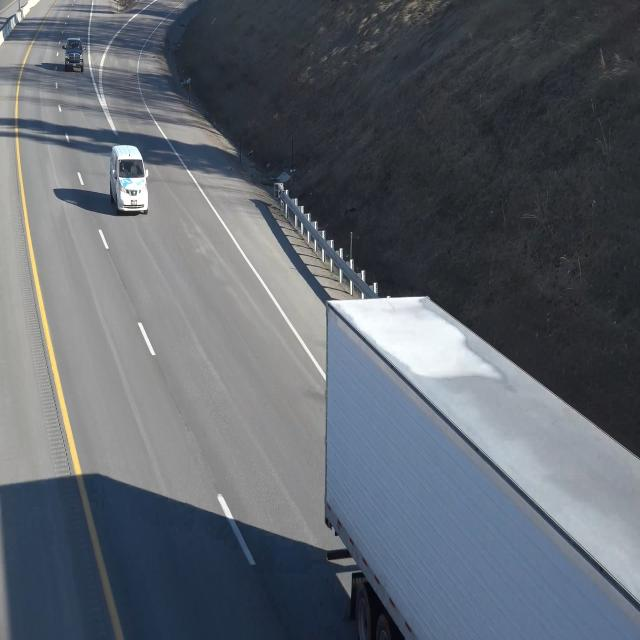Car: (108, 142, 149, 218), (61, 36, 86, 75)
